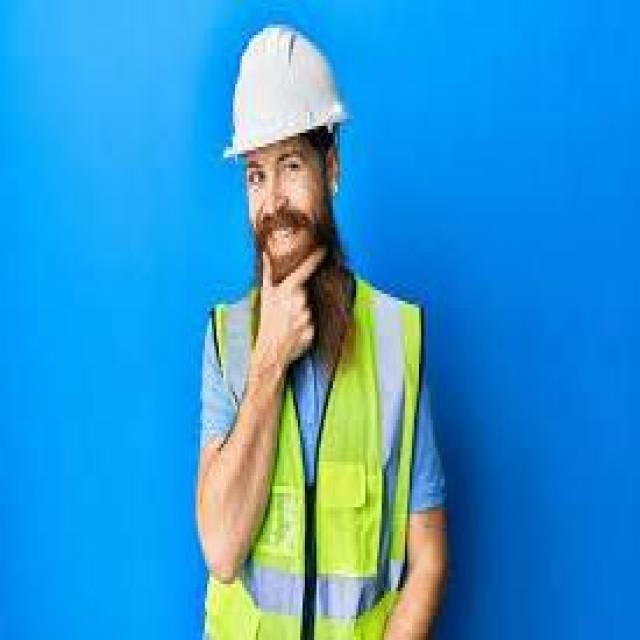Reflective-Jacket: (195, 276, 438, 633)
Safety-Helmet: (221, 21, 352, 168)
